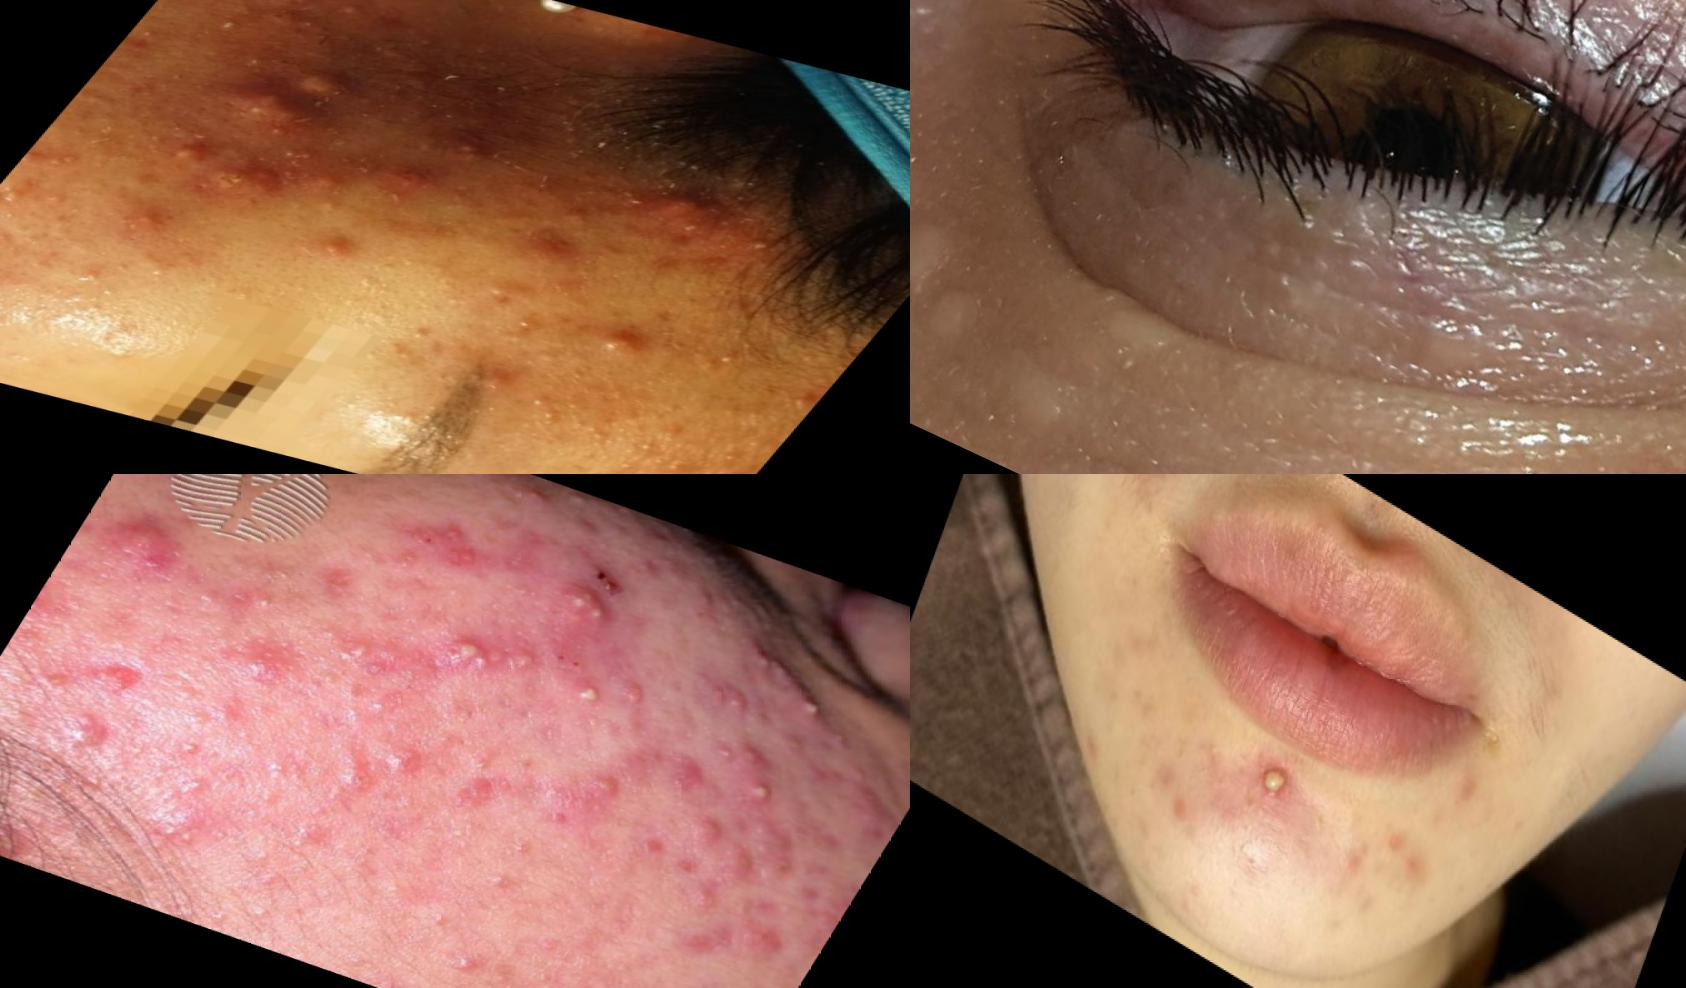cystic: (275, 56, 364, 108)
keloid: (715, 646, 891, 762), (807, 761, 911, 845), (710, 578, 802, 637)
papular: (500, 759, 631, 848), (705, 800, 834, 888), (423, 749, 540, 837), (656, 861, 756, 940), (75, 633, 169, 703), (323, 625, 422, 685), (725, 907, 825, 964), (483, 475, 587, 528), (515, 223, 616, 278), (230, 629, 303, 694), (573, 761, 655, 810), (600, 669, 671, 723), (670, 799, 745, 847), (694, 843, 765, 892), (111, 201, 178, 240), (467, 356, 524, 395), (294, 168, 352, 200)
purulent: (720, 747, 812, 829), (368, 719, 467, 787), (1243, 737, 1311, 826), (577, 322, 670, 367), (557, 669, 625, 719), (152, 132, 219, 176), (301, 234, 360, 263), (745, 238, 772, 254)
sebo-crystan-conglo: (416, 608, 566, 706), (85, 498, 210, 587), (392, 506, 523, 583), (188, 71, 328, 143), (516, 572, 645, 648), (31, 694, 133, 767), (183, 153, 281, 209), (627, 182, 728, 235), (721, 762, 812, 819), (430, 128, 523, 182)
syringoma: (911, 189, 1023, 378), (955, 322, 1102, 458)
whitehead: (259, 810, 333, 866), (1173, 854, 1220, 927), (248, 750, 317, 799), (182, 578, 249, 626), (471, 857, 533, 907), (230, 895, 297, 934), (36, 143, 100, 179), (62, 263, 125, 295), (247, 585, 297, 623), (159, 817, 212, 854), (443, 944, 491, 983), (1196, 726, 1229, 777), (173, 730, 218, 768), (310, 661, 356, 697), (24, 183, 76, 213), (395, 319, 446, 349), (262, 141, 316, 169), (201, 11, 254, 39), (500, 311, 551, 336), (704, 348, 754, 374), (1, 183, 40, 214), (367, 692, 404, 722), (517, 390, 562, 415), (323, 1, 372, 24), (530, 405, 573, 428), (479, 283, 513, 303)
